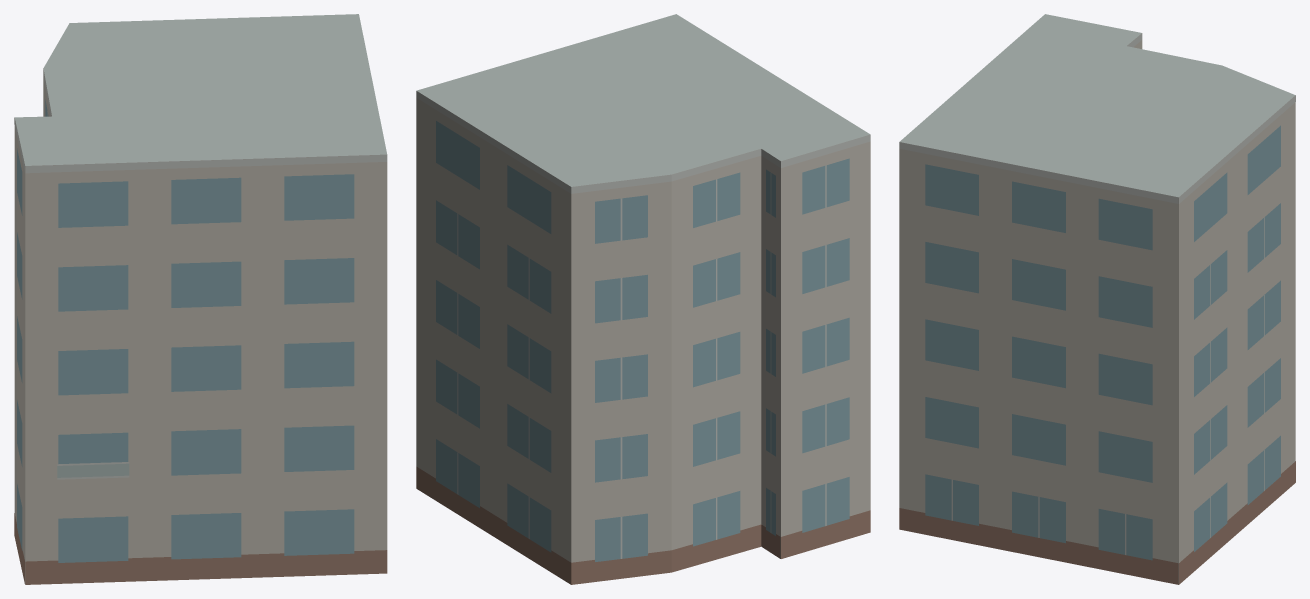
File: survey-upis-32530532.glb
The picture shows the model from 3 angles, left to right: view 1: azimuth 30°, elevation 25°; view 2: azimuth 150°, elevation 25°; view 3: azimuth 270°, elevation 25°; orthographic projection. The views are drawn at different scales.
Visible parts, largest first — view 1: survey-upis-32530532.tmp; view 2: survey-upis-32530532.tmp; view 3: survey-upis-32530532.tmp.
Boxes of the visible parts, x1,y1,x2,y2 form: survey-upis-32530532.tmp: (14, 14, 387, 584); survey-upis-32530532.tmp: (416, 14, 870, 584); survey-upis-32530532.tmp: (899, 14, 1295, 584).
Size of the model in its own units: 14.21 by 14 by 12.99.
